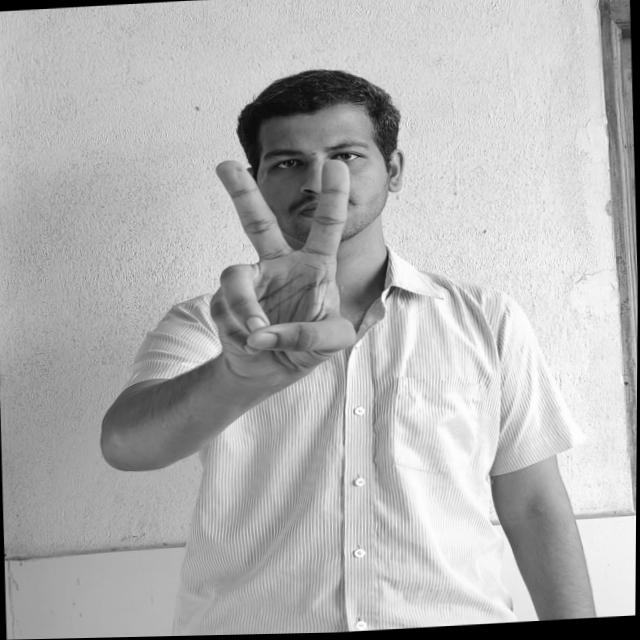Victory: (192, 155, 384, 380)
